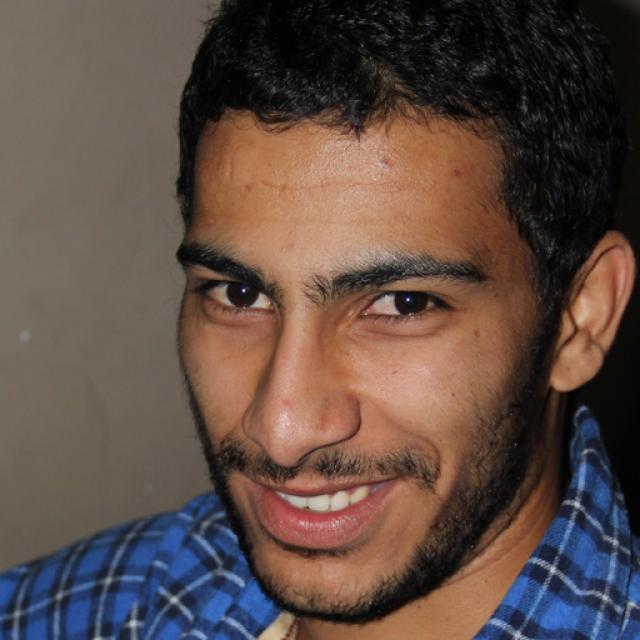Acne: (369, 154, 393, 172), (386, 179, 404, 199), (444, 167, 467, 180)
Wrinkle: (256, 176, 380, 195)
